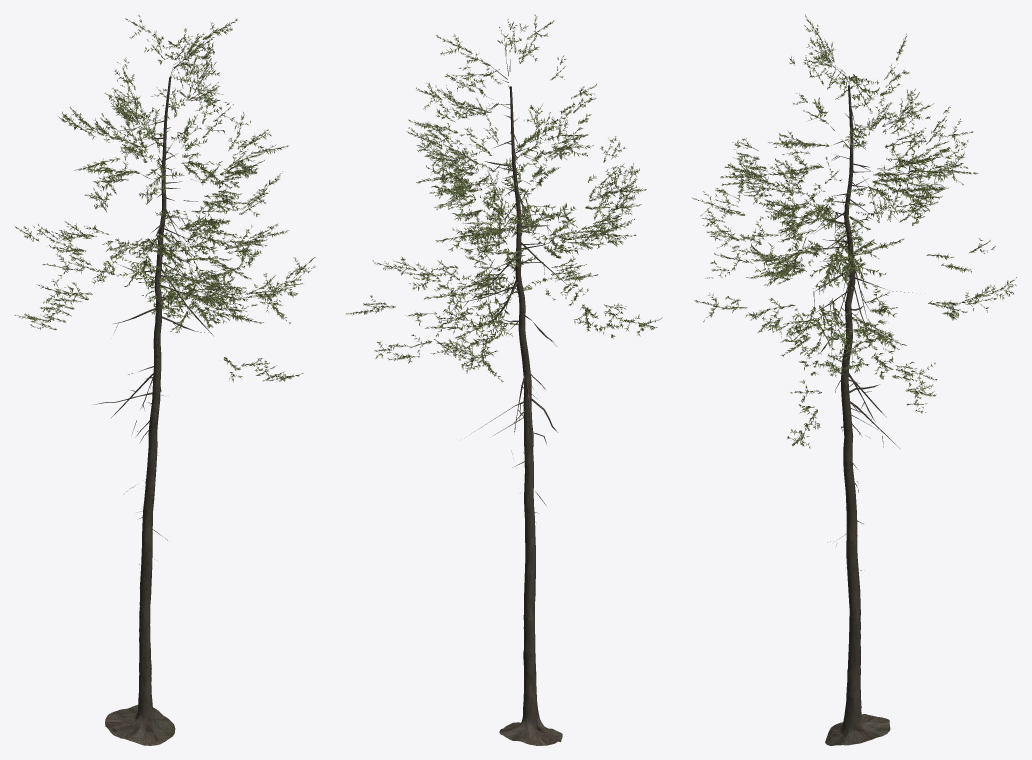
Rendered from fir_tree_01-medium.glb.
The picture shows the model from 3 angles, left to right: view 1: azimuth 30°, elevation 25°; view 2: azimuth 150°, elevation 25°; view 3: azimuth 270°, elevation 25°; orthographic projection. The views are drawn at different scales.
Parts seen in each view (by area): view 1: Stanley conifer; view 2: Stanley conifer; view 3: Stanley conifer.
Boxes of the visible parts, box(x1,y1,x2,y2) form: Stanley conifer: box(14, 15, 315, 745); Stanley conifer: box(346, 14, 662, 745); Stanley conifer: box(692, 14, 1016, 745).
Size of the model in its own units: 6.3 by 14.52 by 5.91.
4 materials, 4 textured.
